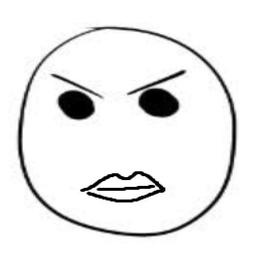cupid_mouth: (73, 169, 173, 206)
eye: (138, 87, 182, 123), (57, 85, 96, 122)
frowning_eyebrow: (123, 67, 189, 96), (48, 70, 104, 101)
